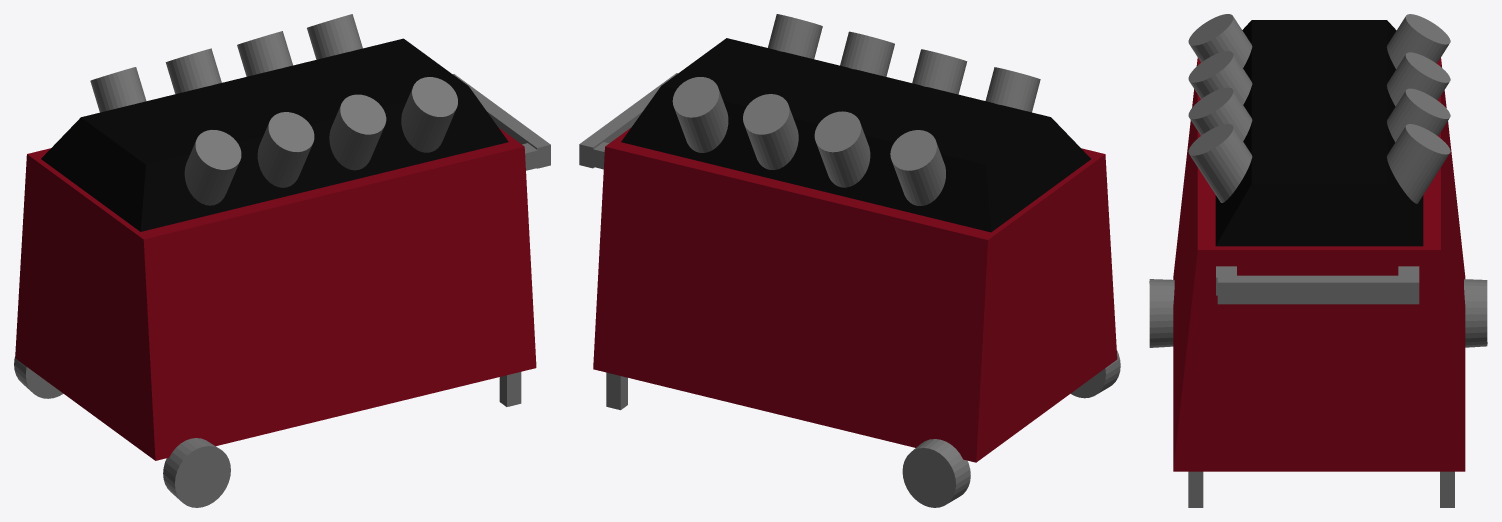
The model's file is generator.fbx.
3 views of the same model, side by side, from view 1: azimuth 30°, elevation 25°; view 2: azimuth 150°, elevation 25°; view 3: azimuth 270°, elevation 25° (orthographic). The views are drawn at different scales.
Parts seen in each view (by area): view 1: Cube, Cube.003, Cylinder, Cylinder.003, Cylinder.004, Cylinder.002, Cylinder.005, Cylinder.006, Cylinder.009, Cylinder.007, Cylinder.008, Cube.006 (+2 smaller); view 2: Cube, Cube.003, Cylinder.001, Cylinder.009, Cylinder.008, Cylinder.007, Cylinder.006, Cylinder.002, Cylinder.004, Cylinder.003, Cylinder.005, Cube.006 (+2 smaller); view 3: Cube, Cube.003, Cube.006, Cylinder.002, Cylinder.008, Cylinder.006, Cylinder.005, Cylinder.004, Cylinder.003, Cylinder.009, Cylinder.007, Cylinder (+3 smaller).
Boxes of the visible parts, <box> form: Cube: <box>15,127,536,460</box>; Cube.003: <box>41,38,508,231</box>; Cylinder: <box>163,438,230,507</box>; Cylinder.003: <box>329,94,386,170</box>; Cylinder.004: <box>257,112,314,187</box>; Cylinder.002: <box>401,77,457,152</box>; Cylinder.005: <box>184,130,241,205</box>; Cylinder.006: <box>90,67,146,112</box>; Cylinder.009: <box>165,48,221,93</box>; Cylinder.007: <box>237,31,292,76</box>; Cylinder.008: <box>307,14,362,59</box>; Cube.006: <box>453,74,550,168</box>; Cube: <box>593,128,1117,462</box>; Cube.003: <box>621,38,1090,232</box>; Cylinder.001: <box>902,439,970,507</box>; Cylinder.009: <box>814,111,870,187</box>; Cylinder.008: <box>672,77,728,152</box>; Cylinder.007: <box>743,94,798,169</box>; Cylinder.006: <box>890,130,945,205</box>; Cylinder.002: <box>768,14,822,59</box>; Cylinder.004: <box>912,49,967,94</box>; Cylinder.003: <box>840,31,894,76</box>; Cylinder.005: <box>985,67,1040,112</box>; Cube.006: <box>579,73,677,168</box>; Cube: <box>1173,57,1465,471</box>; Cube.003: <box>1215,20,1423,246</box>; Cube.006: <box>1217,275,1419,304</box>; Cylinder.002: <box>1188,124,1252,202</box>; Cylinder.008: <box>1386,124,1450,203</box>; Cylinder.006: <box>1386,14,1450,68</box>; Cylinder.005: <box>1188,14,1252,67</box>; Cylinder.004: <box>1188,51,1252,104</box>; Cylinder.003: <box>1188,87,1252,141</box>; Cylinder.009: <box>1387,52,1450,106</box>; Cylinder.007: <box>1387,88,1450,142</box>; Cylinder: <box>1149,279,1174,347</box>.
Size of the model in its own units: 343 by 264 by 231.
